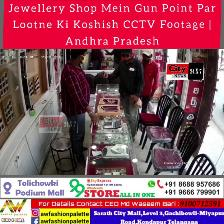person: (61, 50, 97, 165), (103, 50, 144, 140), (141, 49, 159, 112), (105, 50, 121, 69), (91, 49, 103, 69)
